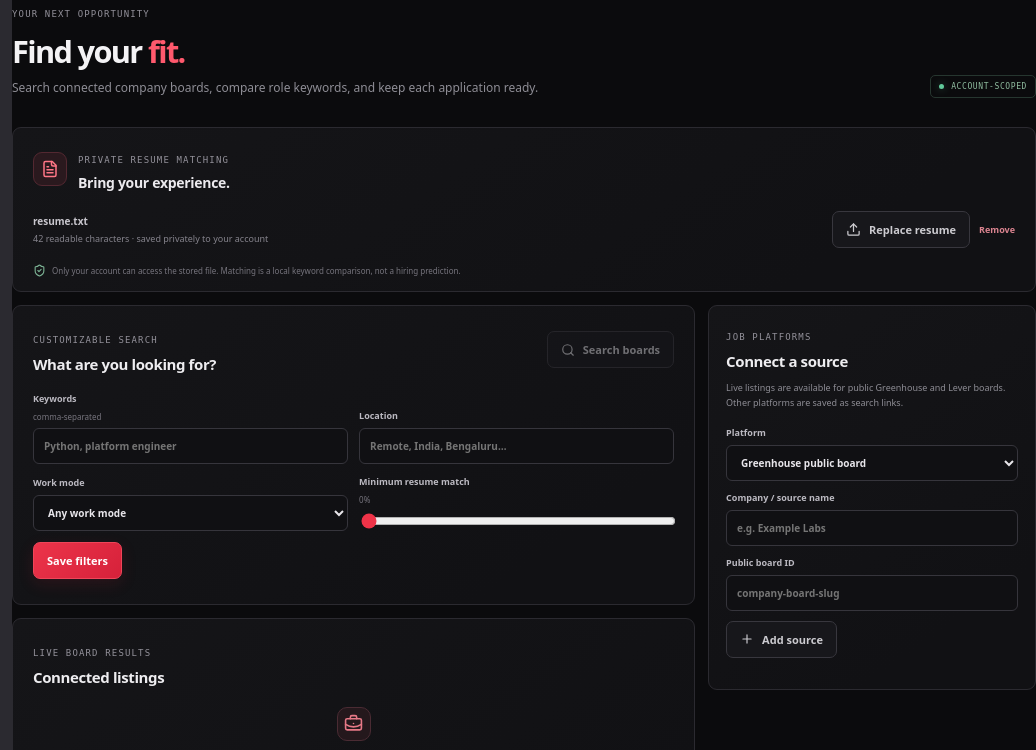
Scenario: career and consistency views › clears cached resume metadata after deletion
The width and height of the screenshot is (1036, 750).
Expected: the text "resume.txt" is shown, [33,214,88,228]
Step 1. Click the button "Remove" → coordinates (997, 230), box [979,218,1015,241]
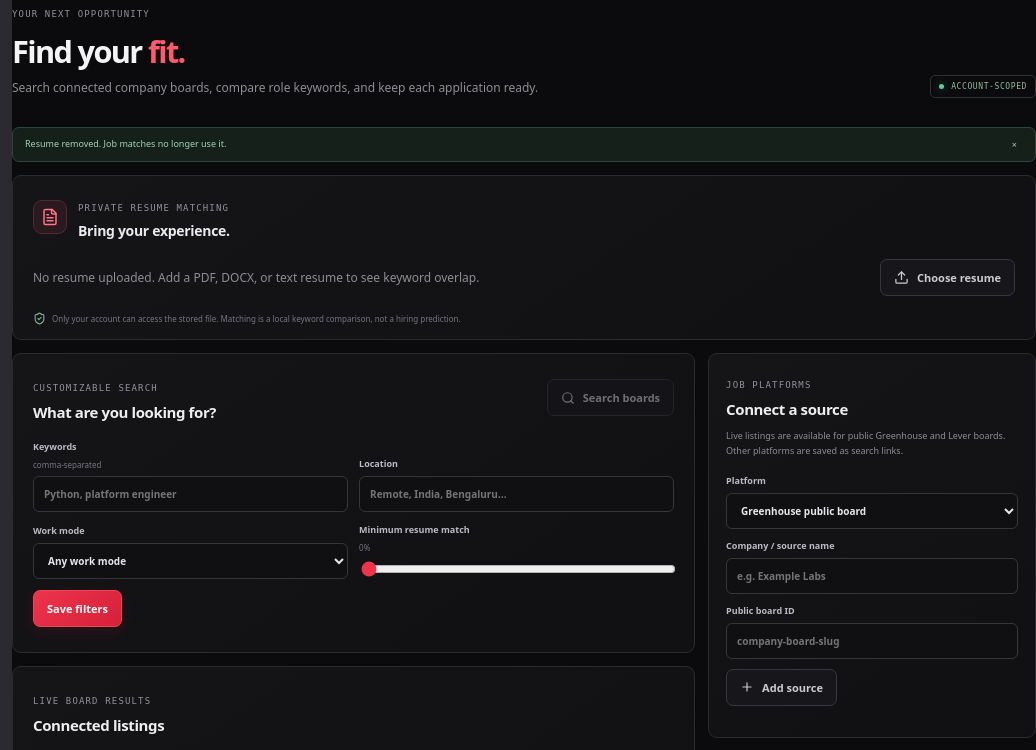
Expected: the text "No resume uploaded" is shown, [33,269,480,286]
